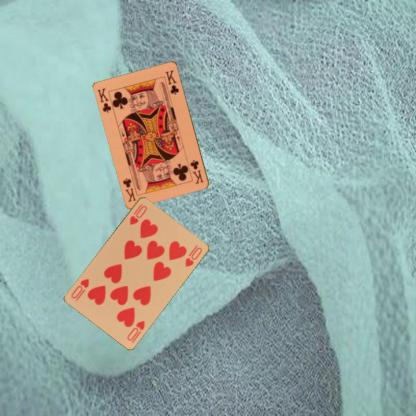10h: (127, 200, 149, 226), (124, 318, 146, 342)
Kc: (94, 85, 112, 114), (188, 157, 204, 186)
